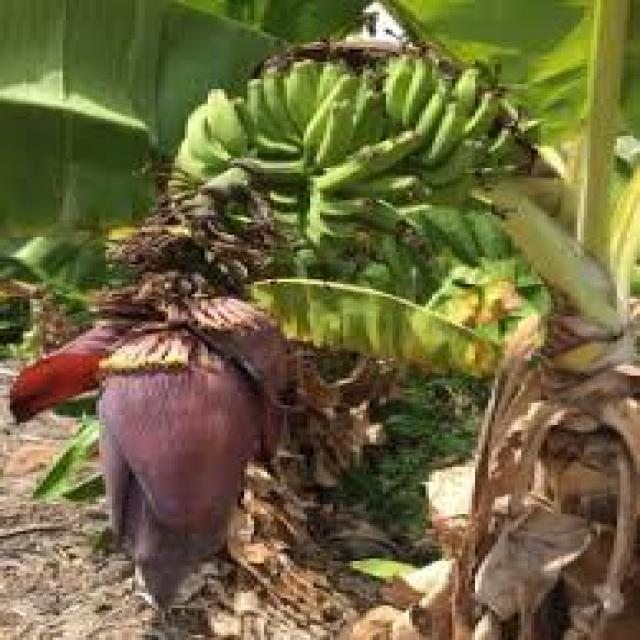banana: (218, 70, 496, 208)
